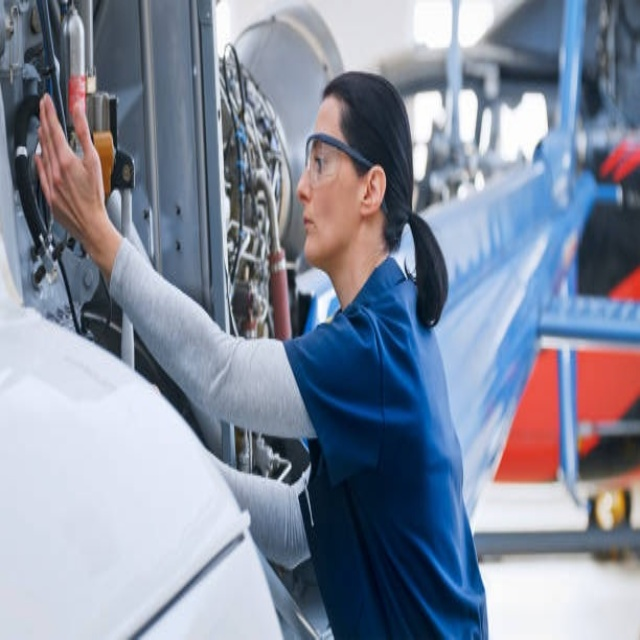Gafas: (304, 132, 381, 197)
Sin_guantes: (37, 91, 108, 249)
Sin_mascara: (296, 200, 329, 260)
